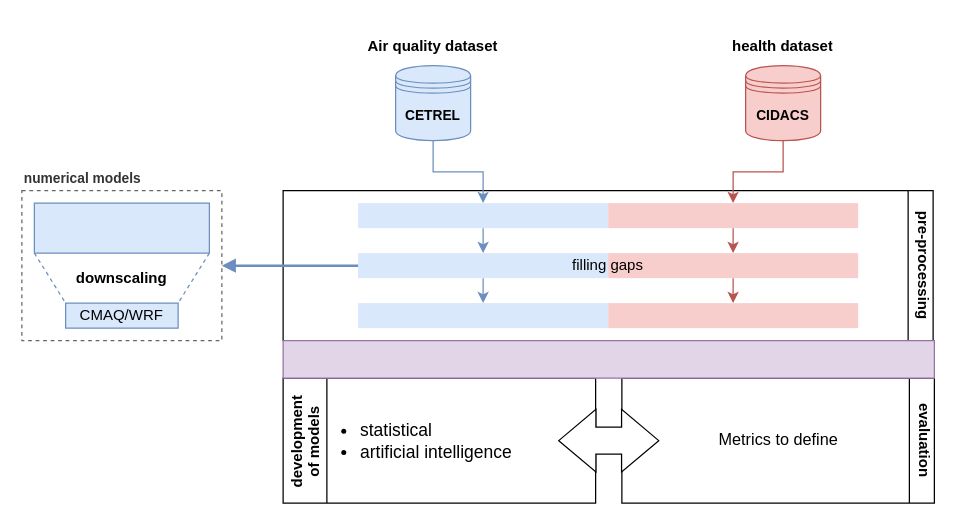
This 956x525 diagram has some shape labels left out. Here are the shapes that lost their labels. From the top down, the centre of each, then its label:
At [121,227]: "Geos-Chem".
At [733,215]: "normalization".
At [483,315]: "descriptive analysis".
At [608,358]: "Linkage".
